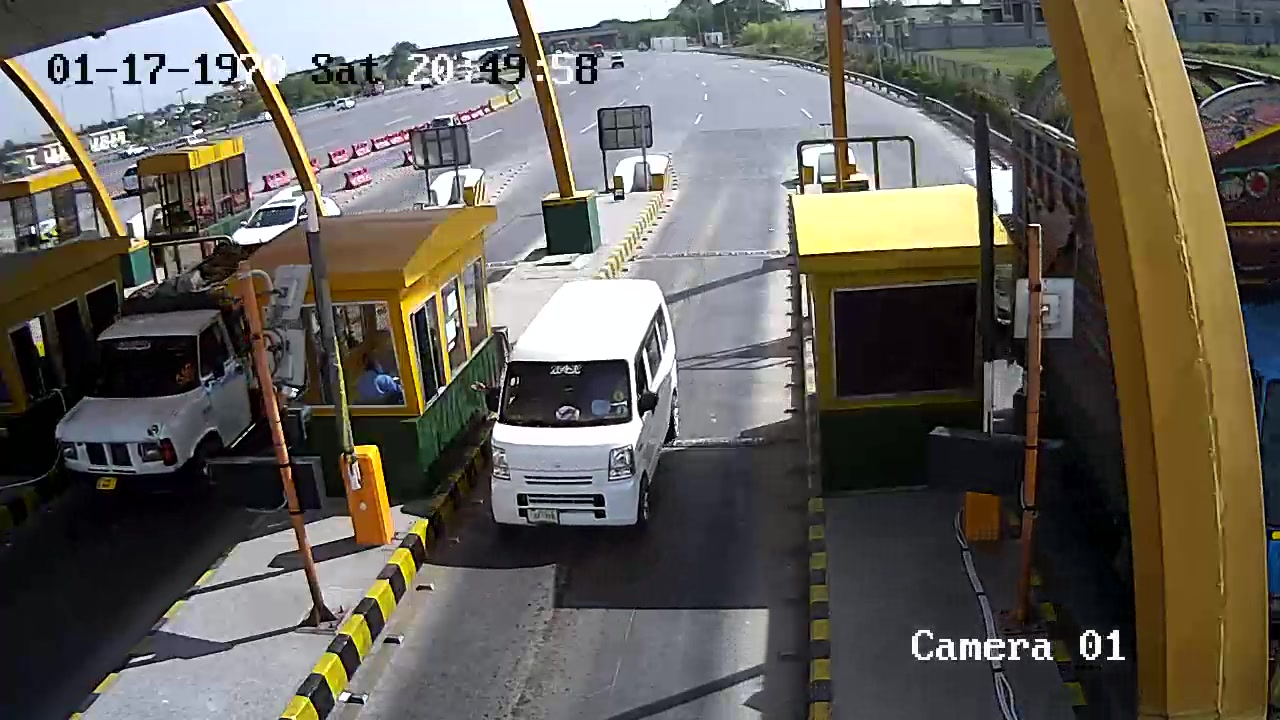F1: (484, 273, 695, 538)
